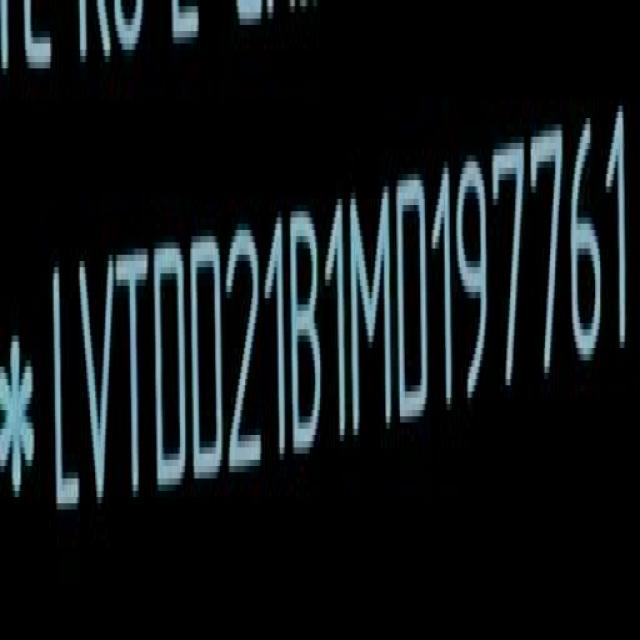1: (266, 215, 290, 473), (324, 196, 346, 459), (432, 158, 453, 423), (610, 98, 630, 359)
2: (227, 226, 262, 489)
6: (570, 119, 603, 370)
7: (531, 119, 563, 392), (495, 138, 527, 403)
9: (458, 154, 491, 413)
B: (293, 204, 326, 461)
D: (153, 235, 190, 499), (191, 226, 227, 494), (396, 166, 429, 428)
L: (50, 260, 80, 524)
M: (350, 180, 393, 448)
T: (118, 238, 150, 512)
V: (77, 248, 118, 516)
